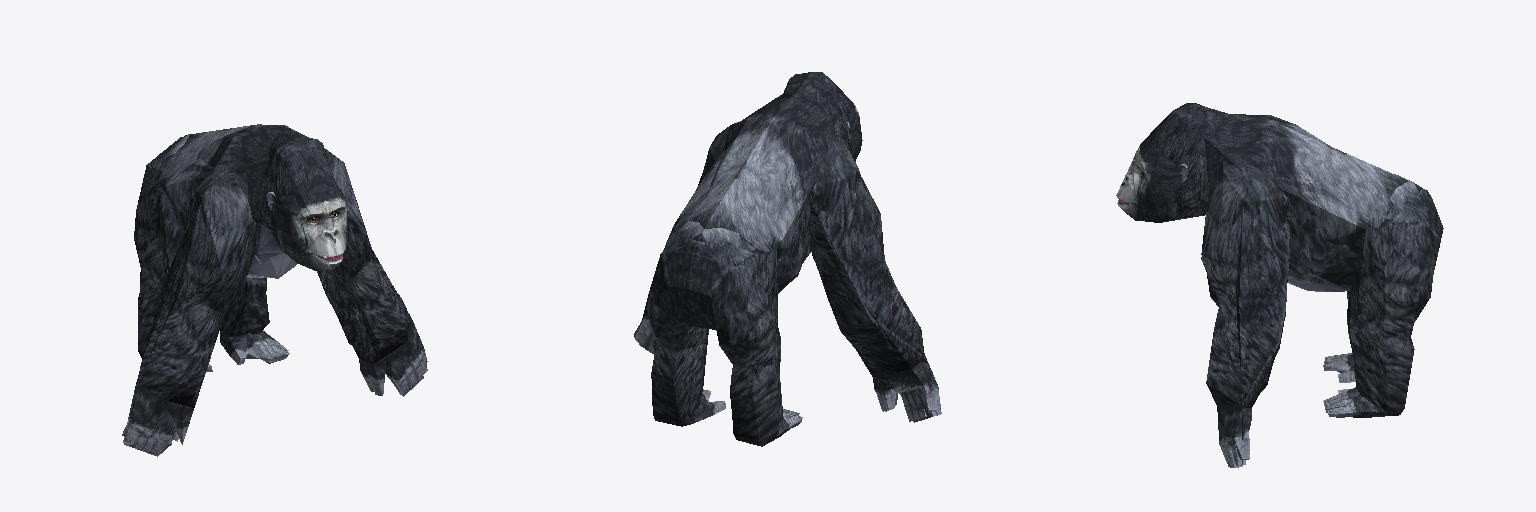
3 views of the same model, side by side, from view 1: azimuth 30°, elevation 25°; view 2: azimuth 150°, elevation 25°; view 3: azimuth 270°, elevation 25° (orthographic).
Parts seen in each view (by area): view 1: male; view 2: male; view 3: male.
Part boxes in pixels (x1,y1,x2,y2): male: (122, 124, 427, 456); male: (634, 72, 941, 446); male: (1116, 103, 1443, 467).
Size of the model in its own units: 1.92 by 1.82 by 1.78.
Materials: 5 (2 with a texture image).